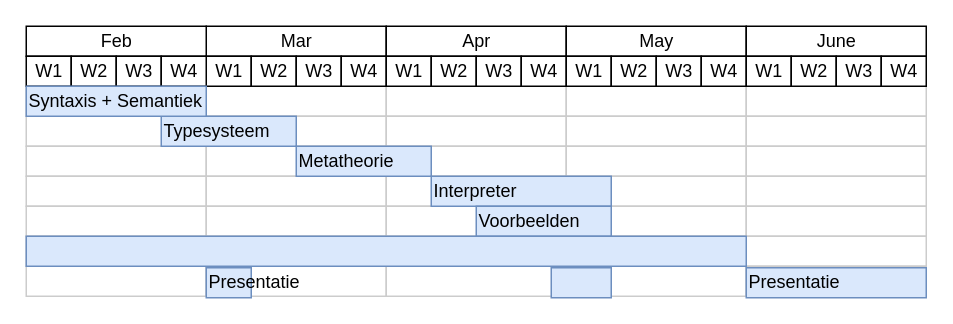
Image size: 953x324. Some labels were removed from this diagram. The shapes that lost their labels are listed below. From the top down, each one's box as (x1, y1, x2, y2) in pixels, then its label:
(25, 235, 746, 266): Tekst
(550, 266, 611, 298): Poster
